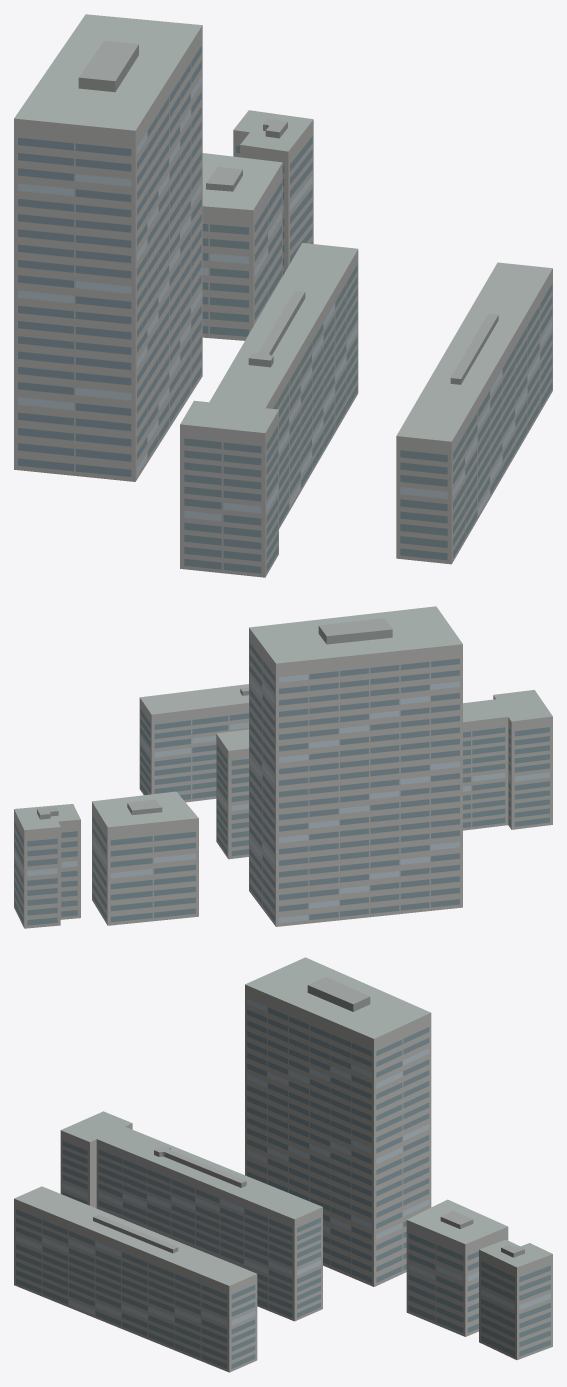
File: apt-a13817101.glb
3 renders of one model, top to bottom at view 1: azimuth 30°, elevation 25°; view 2: azimuth 150°, elevation 25°; view 3: azimuth 270°, elevation 25°, orthographic. The views are drawn at different scales.
Parts seen in each view (by area): view 1: apt-a13817101; view 2: apt-a13817101; view 3: apt-a13817101.
Part boxes in pixels (x1,y1,x2,y2): apt-a13817101: (14, 14, 552, 577); apt-a13817101: (14, 606, 552, 928); apt-a13817101: (14, 957, 552, 1372).
Bounding box in the file's own units: 111 × 79 × 151.
